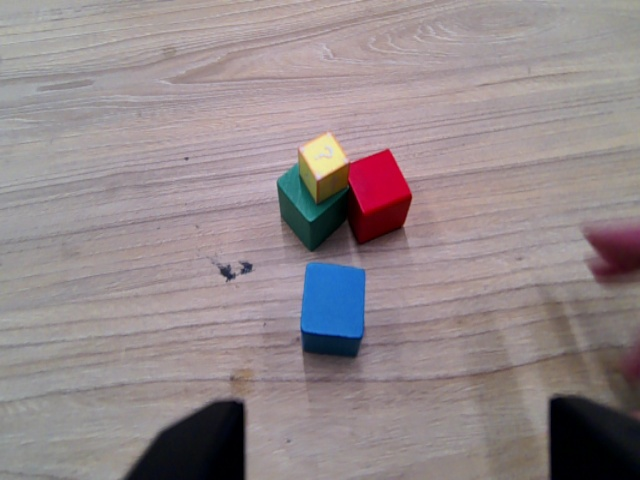lucky: (295, 128, 353, 206)
